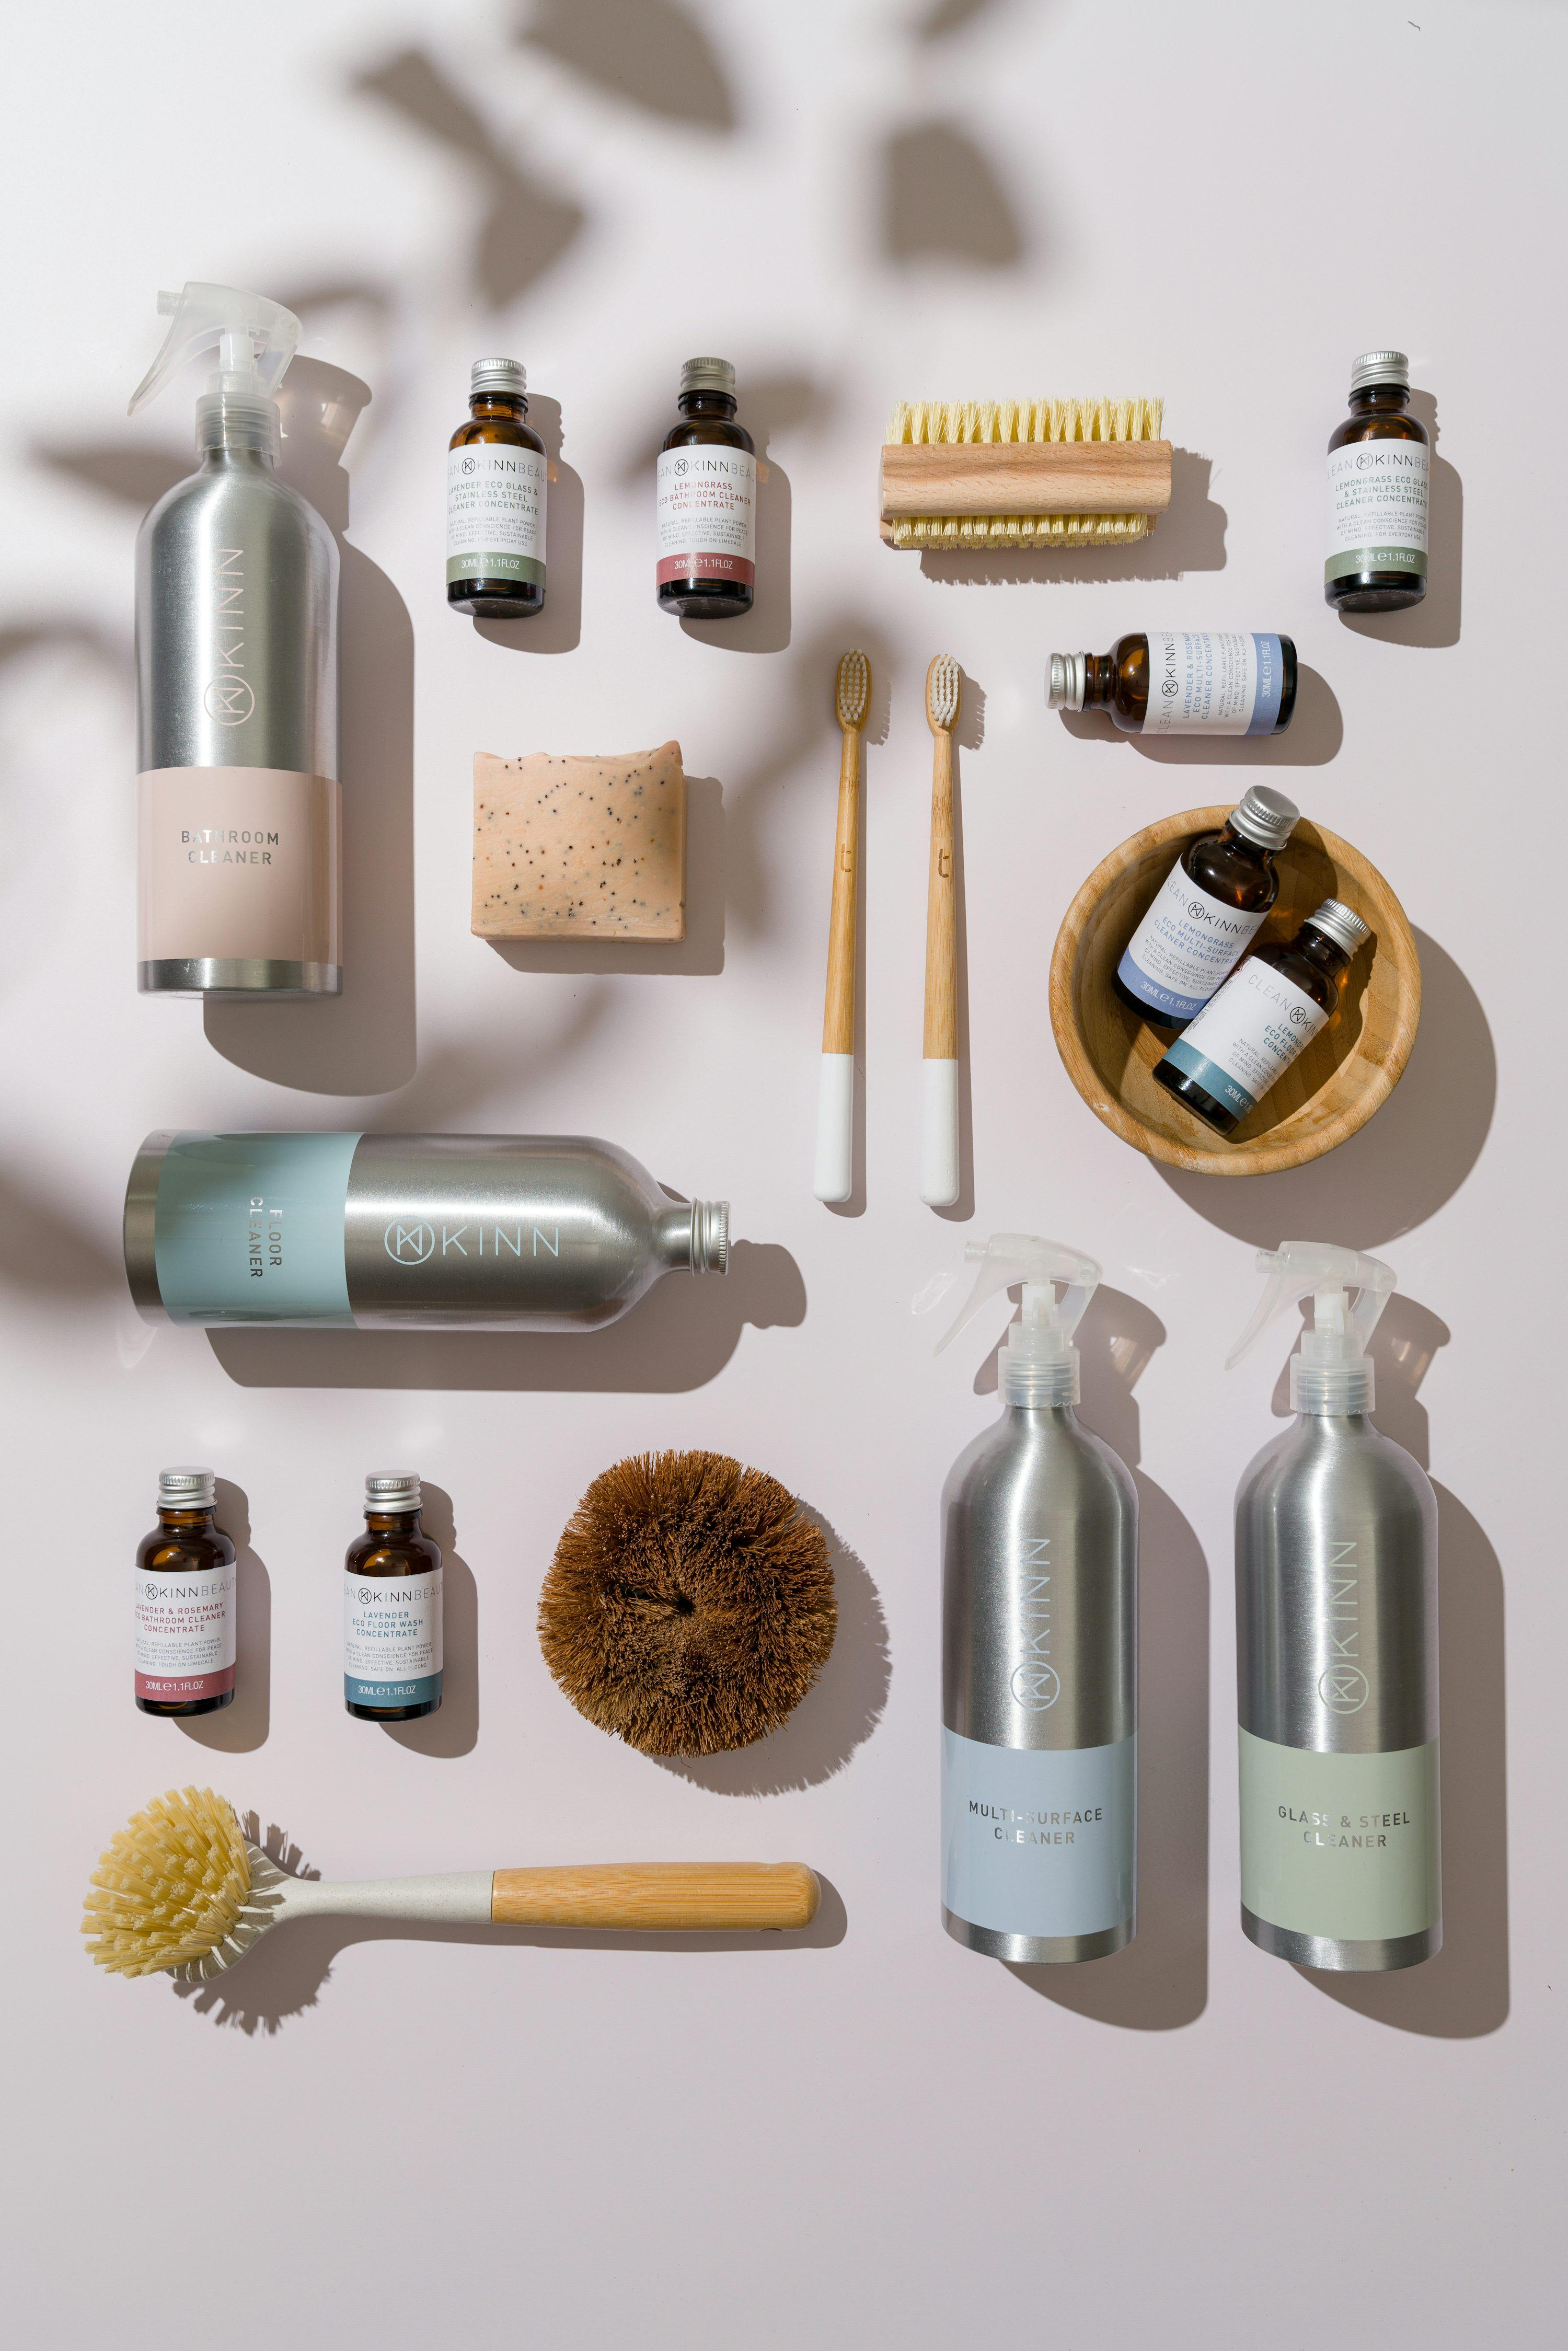glass: (1151, 899, 1368, 1141), (1108, 784, 1300, 1032), (1323, 345, 1431, 617), (1041, 628, 1300, 738), (656, 353, 759, 619), (444, 357, 548, 616), (133, 1464, 238, 1718), (343, 1469, 444, 1725)
